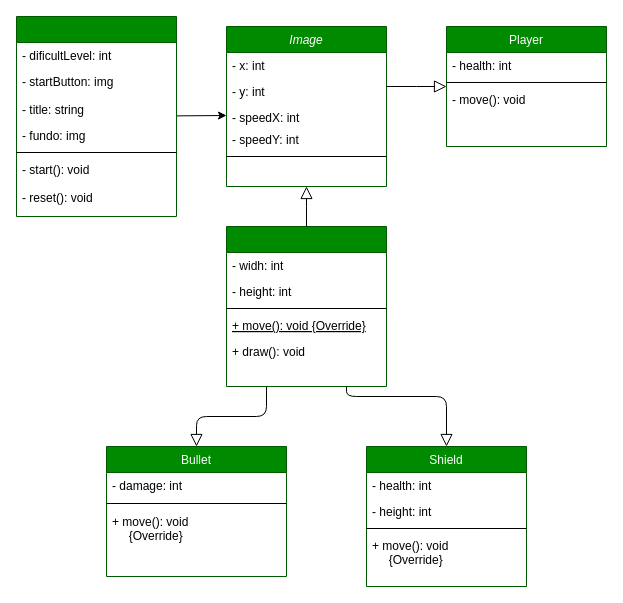
This 623x603 diagram has some shape labels left out. The box of each missing label's shape, as (x1, y1, x2, y2) in pixels:
+ Rectangle: (226, 226, 386, 386)
MainScreen: (16, 16, 176, 216)
